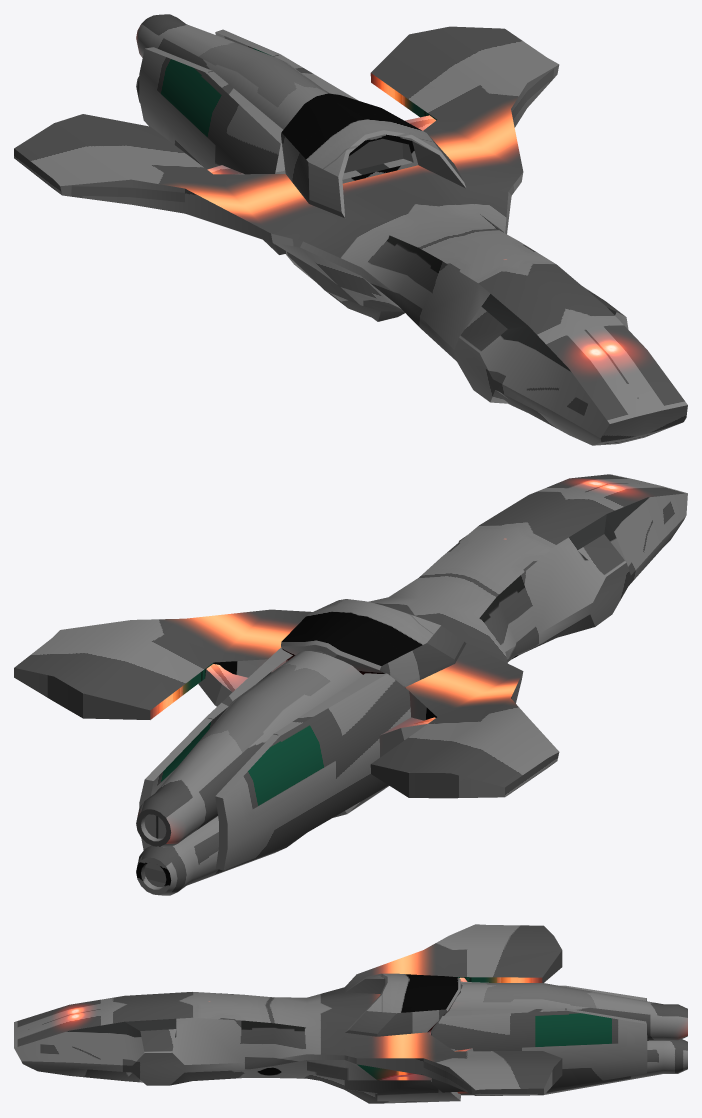
Rendered from Omega Gunship.fbx.
3 renders of one model, top to bottom at view 1: azimuth 30°, elevation 25°; view 2: azimuth 150°, elevation 25°; view 3: azimuth 270°, elevation 25°, orthographic. The views are drawn at different scales.
Parts seen in each view (by area): view 1: OmegaGunship_LOD0; view 2: OmegaGunship_LOD0; view 3: OmegaGunship_LOD0.
Part boxes in pixels (left/top/right/bottom): OmegaGunship_LOD0: left=14, top=14, right=687, bottom=445; OmegaGunship_LOD0: left=14, top=474, right=687, bottom=895; OmegaGunship_LOD0: left=14, top=924, right=687, bottom=1103.
Size of what is drawn, in the model's own units: 2129 by 722 by 3659.
